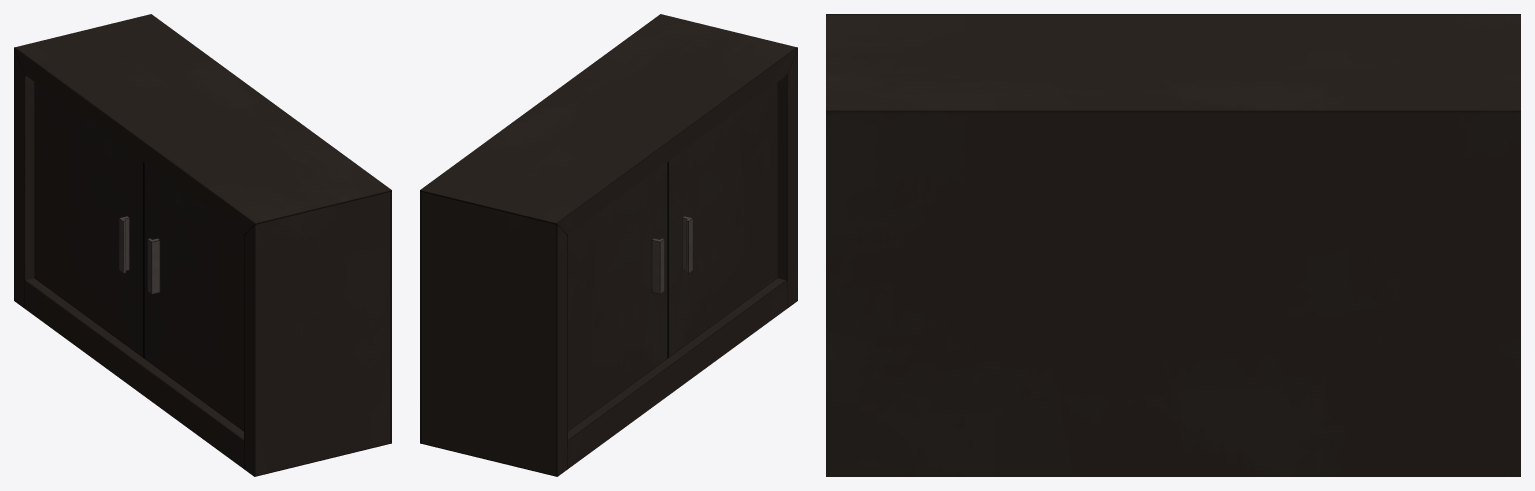
Rendered from cupboard1.fbx.
3 views of the same model, side by side, from view 1: azimuth 30°, elevation 25°; view 2: azimuth 150°, elevation 25°; view 3: azimuth 270°, elevation 25° (orthographic). The views are drawn at different scales.
Parts seen in each view (by area): view 1: polySurface1568; view 2: polySurface1568; view 3: polySurface1568.
Part boxes in pixels (x1=…): polySurface1568: x1=14, y1=14, x2=391, y2=476; polySurface1568: x1=420, y1=14, x2=797, y2=476; polySurface1568: x1=826, y1=14, x2=1520, y2=476.
Bounding box in the file's own units: 0.5579 × 0.9842 × 1.69.
